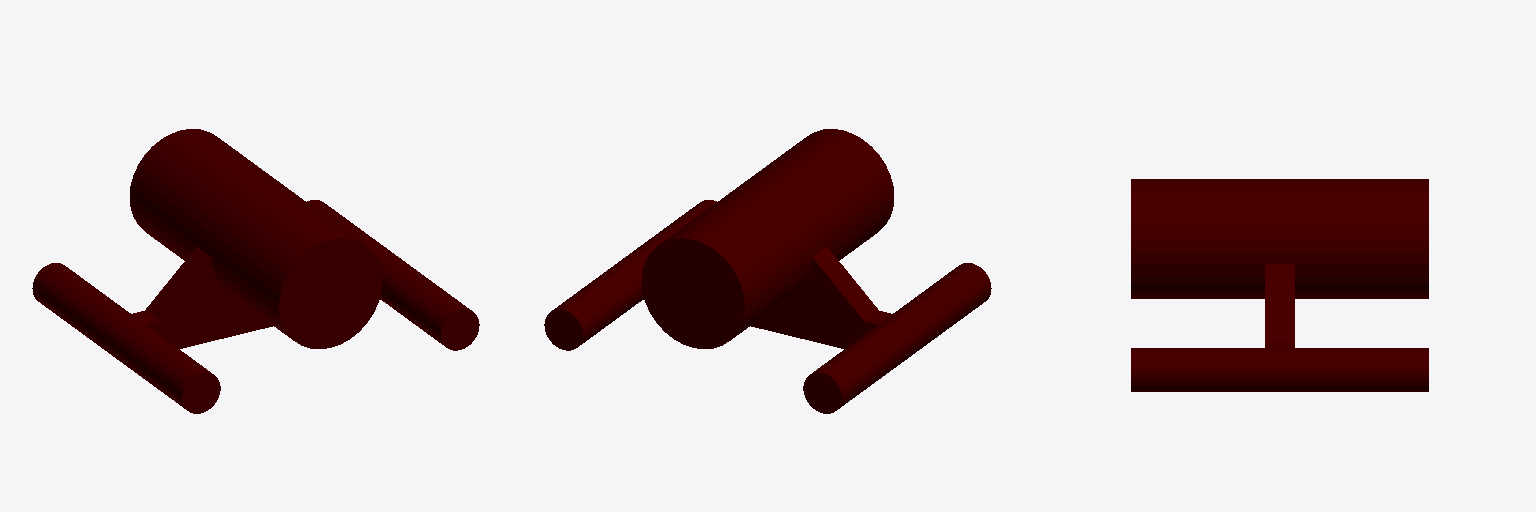
The model's file is vekoma_invert.obj.
3 views of the same model, side by side, from view 1: azimuth 30°, elevation 25°; view 2: azimuth 150°, elevation 25°; view 3: azimuth 270°, elevation 25° (orthographic).
Bounding box in the file's own units: 1.26 × 0.5775 × 1.1.